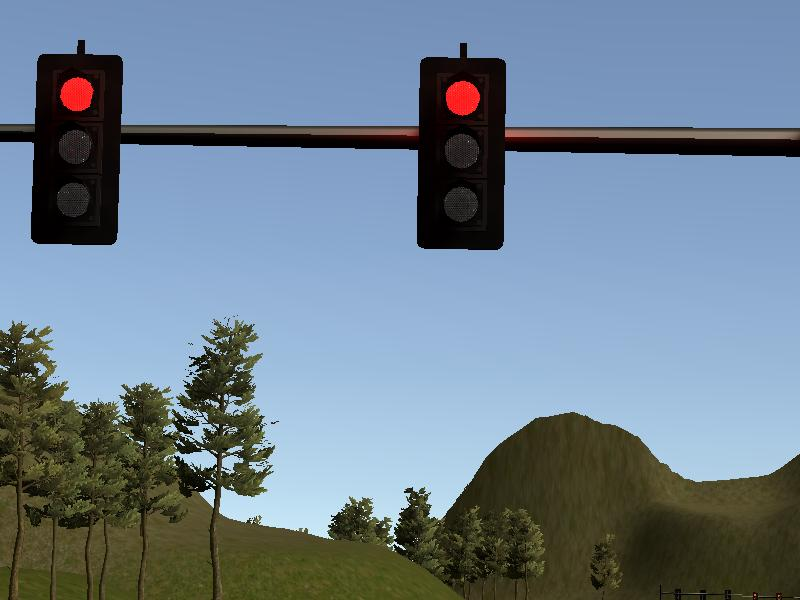red: (416, 55, 508, 254), (36, 52, 120, 243)
